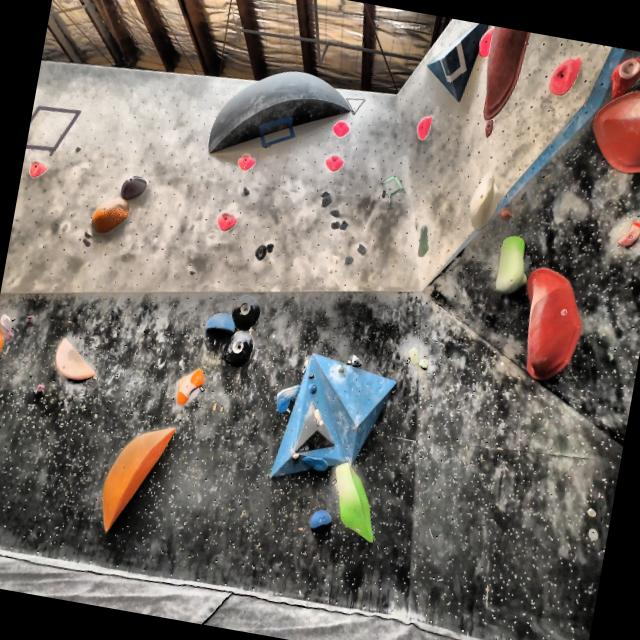Hold: (90, 414, 182, 543), (508, 260, 594, 392), (583, 77, 640, 179), (476, 26, 533, 122), (323, 461, 386, 546), (490, 232, 536, 303), (462, 166, 504, 235), (50, 334, 103, 382), (88, 192, 136, 238), (602, 50, 640, 103), (544, 50, 584, 100), (169, 361, 209, 406), (219, 326, 256, 369), (227, 293, 266, 331), (117, 170, 154, 203), (203, 308, 238, 338), (611, 217, 640, 253), (274, 382, 302, 418), (306, 504, 334, 534), (0, 302, 11, 368), (300, 454, 332, 476), (233, 148, 259, 174), (211, 210, 240, 233), (414, 223, 432, 258), (27, 158, 52, 182), (413, 113, 434, 141), (477, 25, 494, 59), (322, 153, 346, 174), (254, 242, 276, 264), (406, 343, 424, 368), (331, 117, 351, 139), (496, 200, 514, 223), (346, 350, 366, 370), (482, 116, 496, 144), (310, 404, 326, 426), (316, 191, 334, 209), (0, 311, 16, 330), (326, 217, 342, 232), (23, 310, 38, 324), (356, 242, 369, 258), (306, 382, 320, 396), (338, 217, 350, 233), (417, 358, 430, 372), (329, 206, 342, 220), (329, 252, 342, 264), (336, 363, 347, 376), (345, 254, 356, 267), (302, 358, 312, 370), (290, 452, 300, 461), (326, 266, 336, 274)
